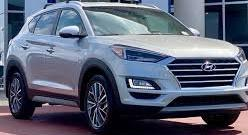SUV: (7, 3, 248, 133)
